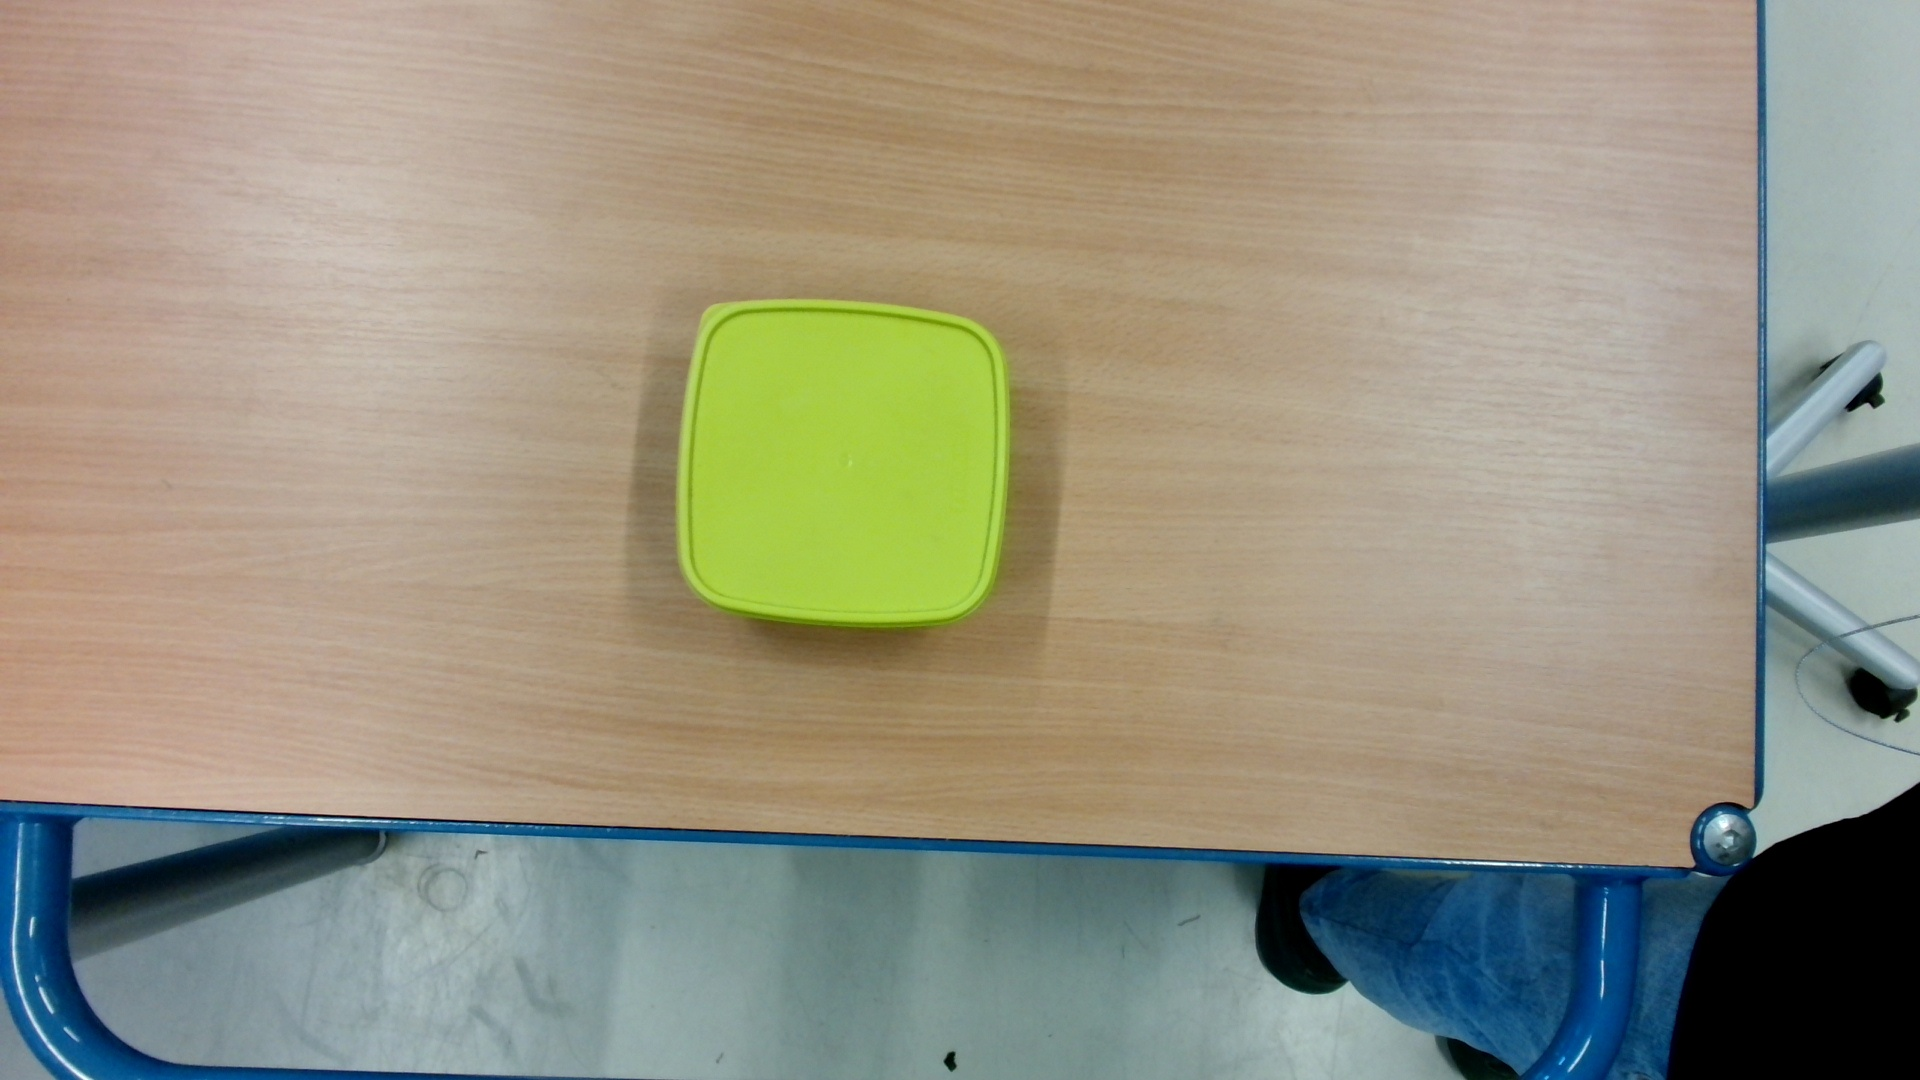Box: (663, 287, 1025, 642)
